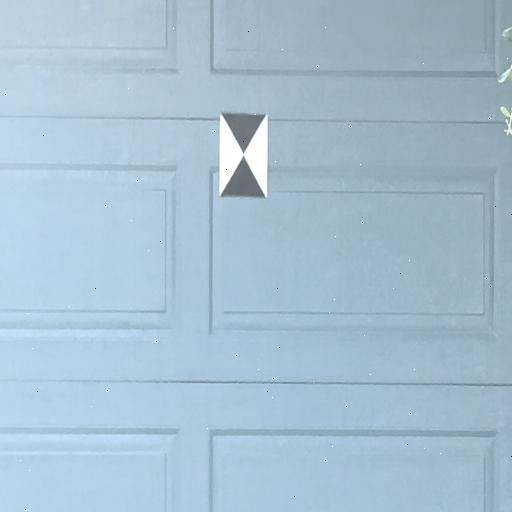target: (220, 112, 269, 198)
